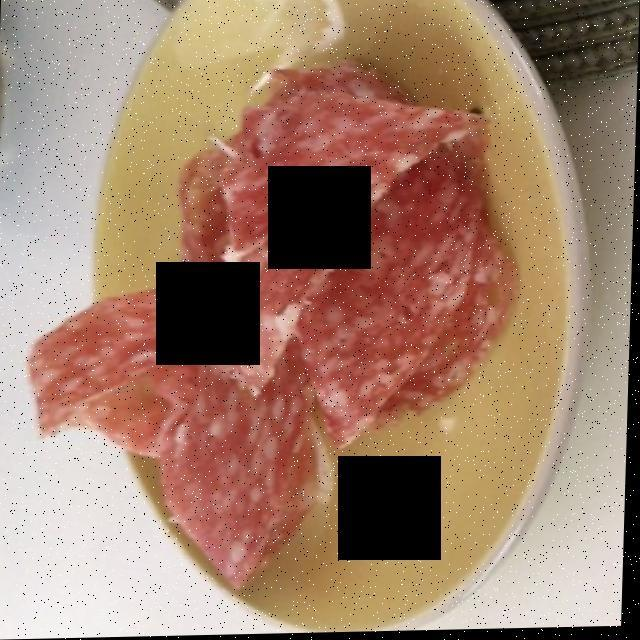salami: (34, 64, 520, 578)
